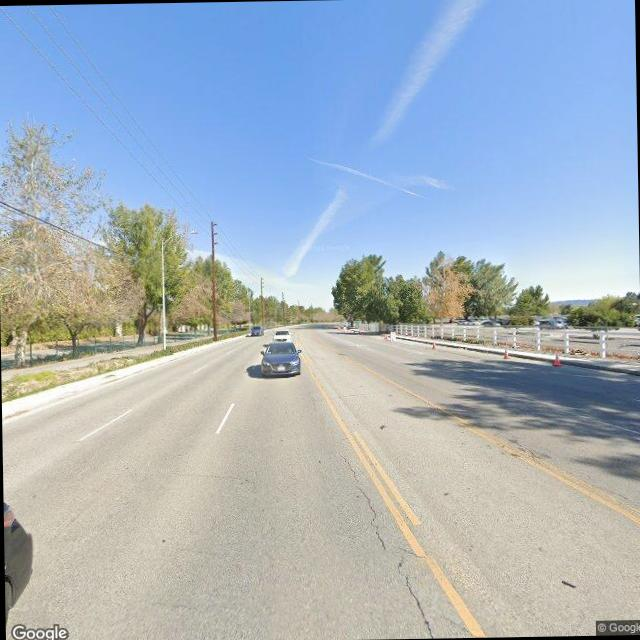pothole: (335, 447, 384, 550), (394, 549, 434, 634)
